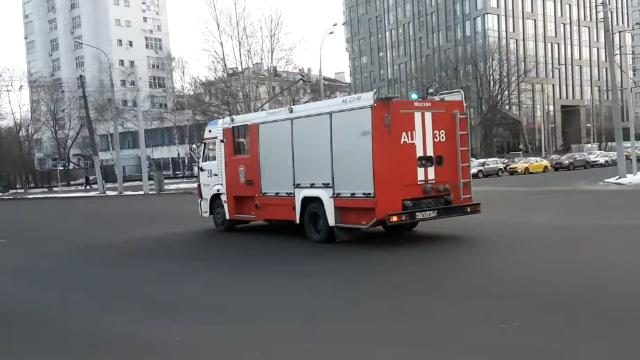fire fighting vehicle: (196, 82, 484, 248)
non emergency car: (508, 154, 550, 178), (472, 156, 506, 178), (553, 152, 593, 170), (590, 151, 622, 168)
